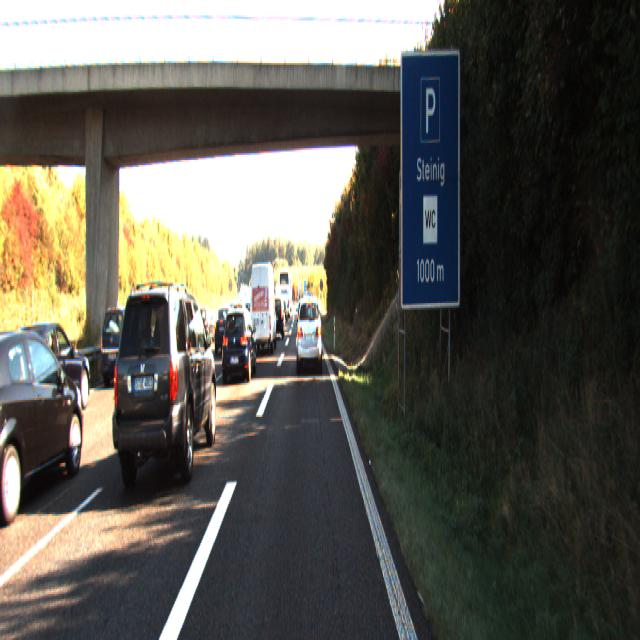Car: (111, 281, 219, 499), (0, 324, 88, 534), (0, 316, 93, 431), (100, 309, 152, 391), (153, 311, 203, 394), (221, 308, 257, 385), (249, 260, 277, 354), (295, 292, 322, 372), (269, 300, 285, 345)
